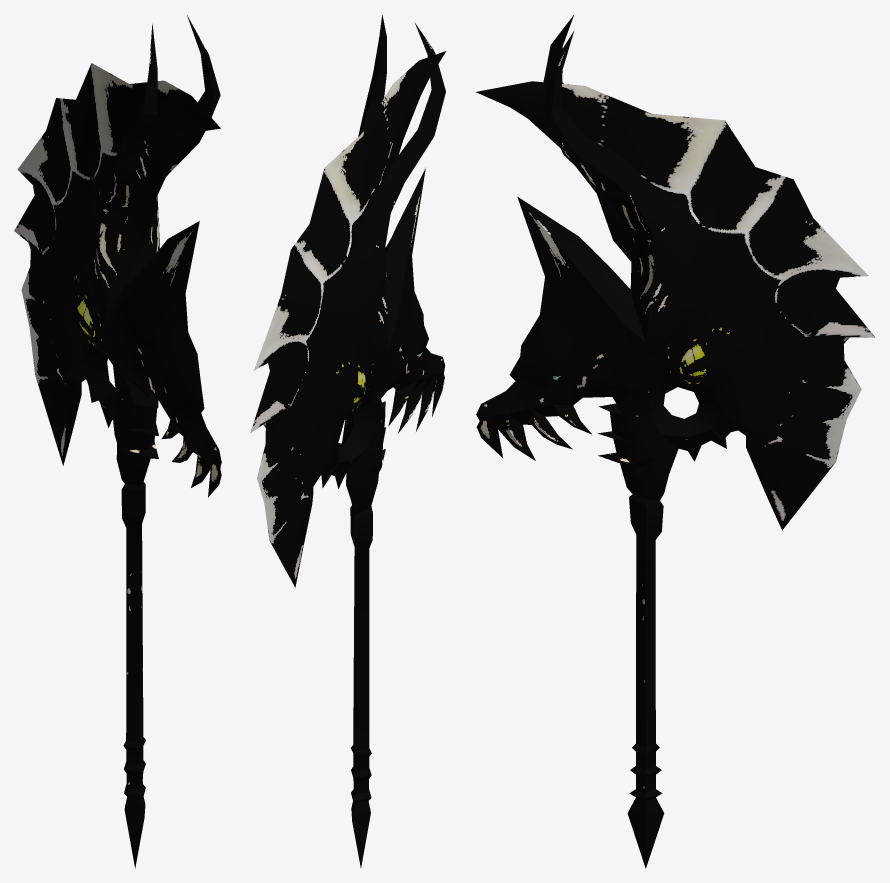
Rendered from 19psf_6be2b4f2.glb.
3 renders of one model, left to right at view 1: azimuth 30°, elevation 25°; view 2: azimuth 150°, elevation 25°; view 3: azimuth 270°, elevation 25°, orthographic. The views are drawn at different scales.
Bounding box in the file's own units: 0.2833 × 3.06 × 1.31.
1 material, 1 textured.
